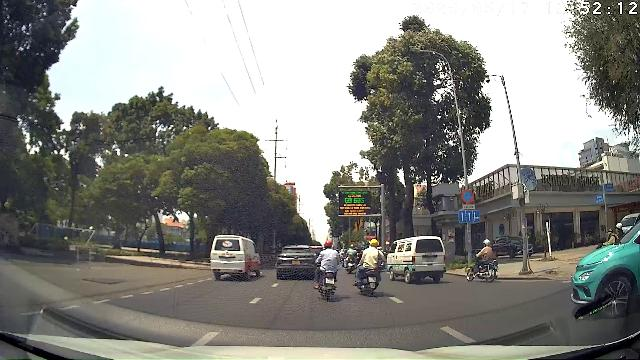131a-cam-do-xe: (461, 189, 474, 204)
